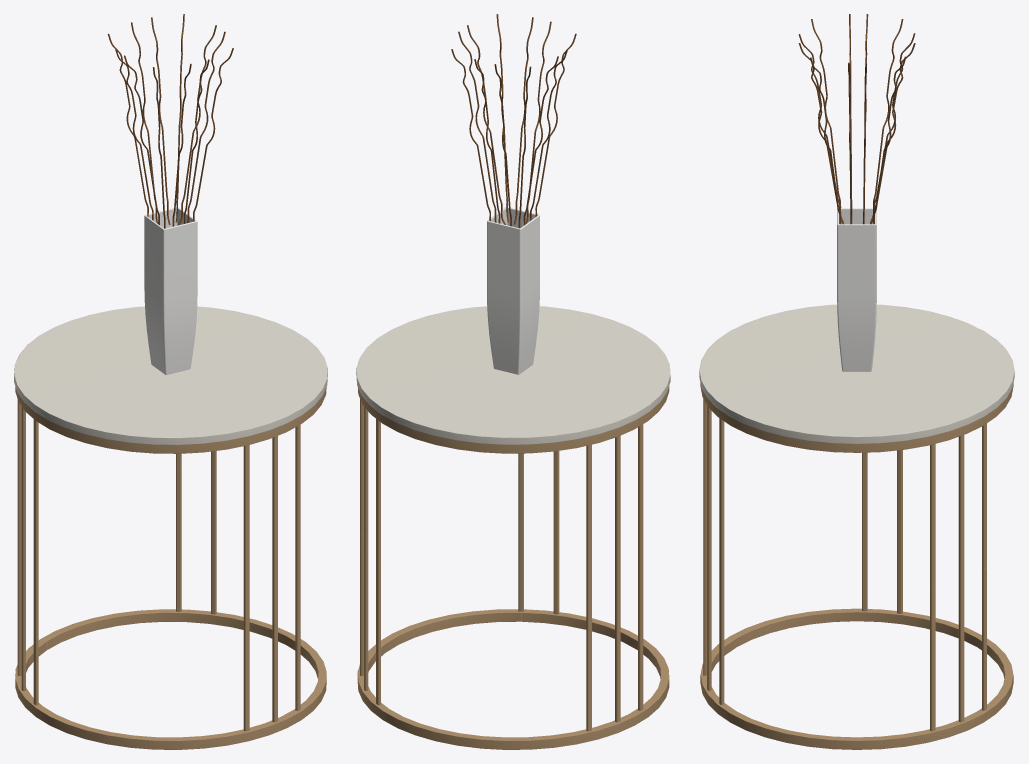
Rendered from 1767426154294-side_table.glb.
3 views of the same model, side by side, from view 1: azimuth 30°, elevation 25°; view 2: azimuth 150°, elevation 25°; view 3: azimuth 270°, elevation 25° (orthographic).
Parts seen in each view (by area): view 1: _pCylinder1, _polySurface1, _pCube1, _polySurface11; view 2: _pCylinder1, _polySurface1, _pCube1, _polySurface11; view 3: _pCylinder1, _polySurface1, _pCube1, _polySurface11.
Part boxes in pixels (bbox=[...]): _pCylinder1: bbox=[14, 306, 327, 444]; _polySurface1: bbox=[15, 387, 326, 749]; _pCube1: bbox=[144, 207, 197, 374]; _polySurface11: bbox=[107, 14, 233, 228]; _pCylinder1: bbox=[356, 306, 670, 444]; _polySurface1: bbox=[357, 386, 669, 749]; _pCube1: bbox=[487, 207, 539, 374]; _polySurface11: bbox=[451, 14, 576, 228]; _pCylinder1: bbox=[699, 304, 1014, 443]; _polySurface1: bbox=[700, 384, 1013, 749]; _pCube1: bbox=[837, 208, 876, 371]; _polySurface11: bbox=[798, 14, 915, 224].
Size of the model in its own units: 0.5172 by 1.17 by 0.5172.
Materials: 1 (1 with a texture image).
